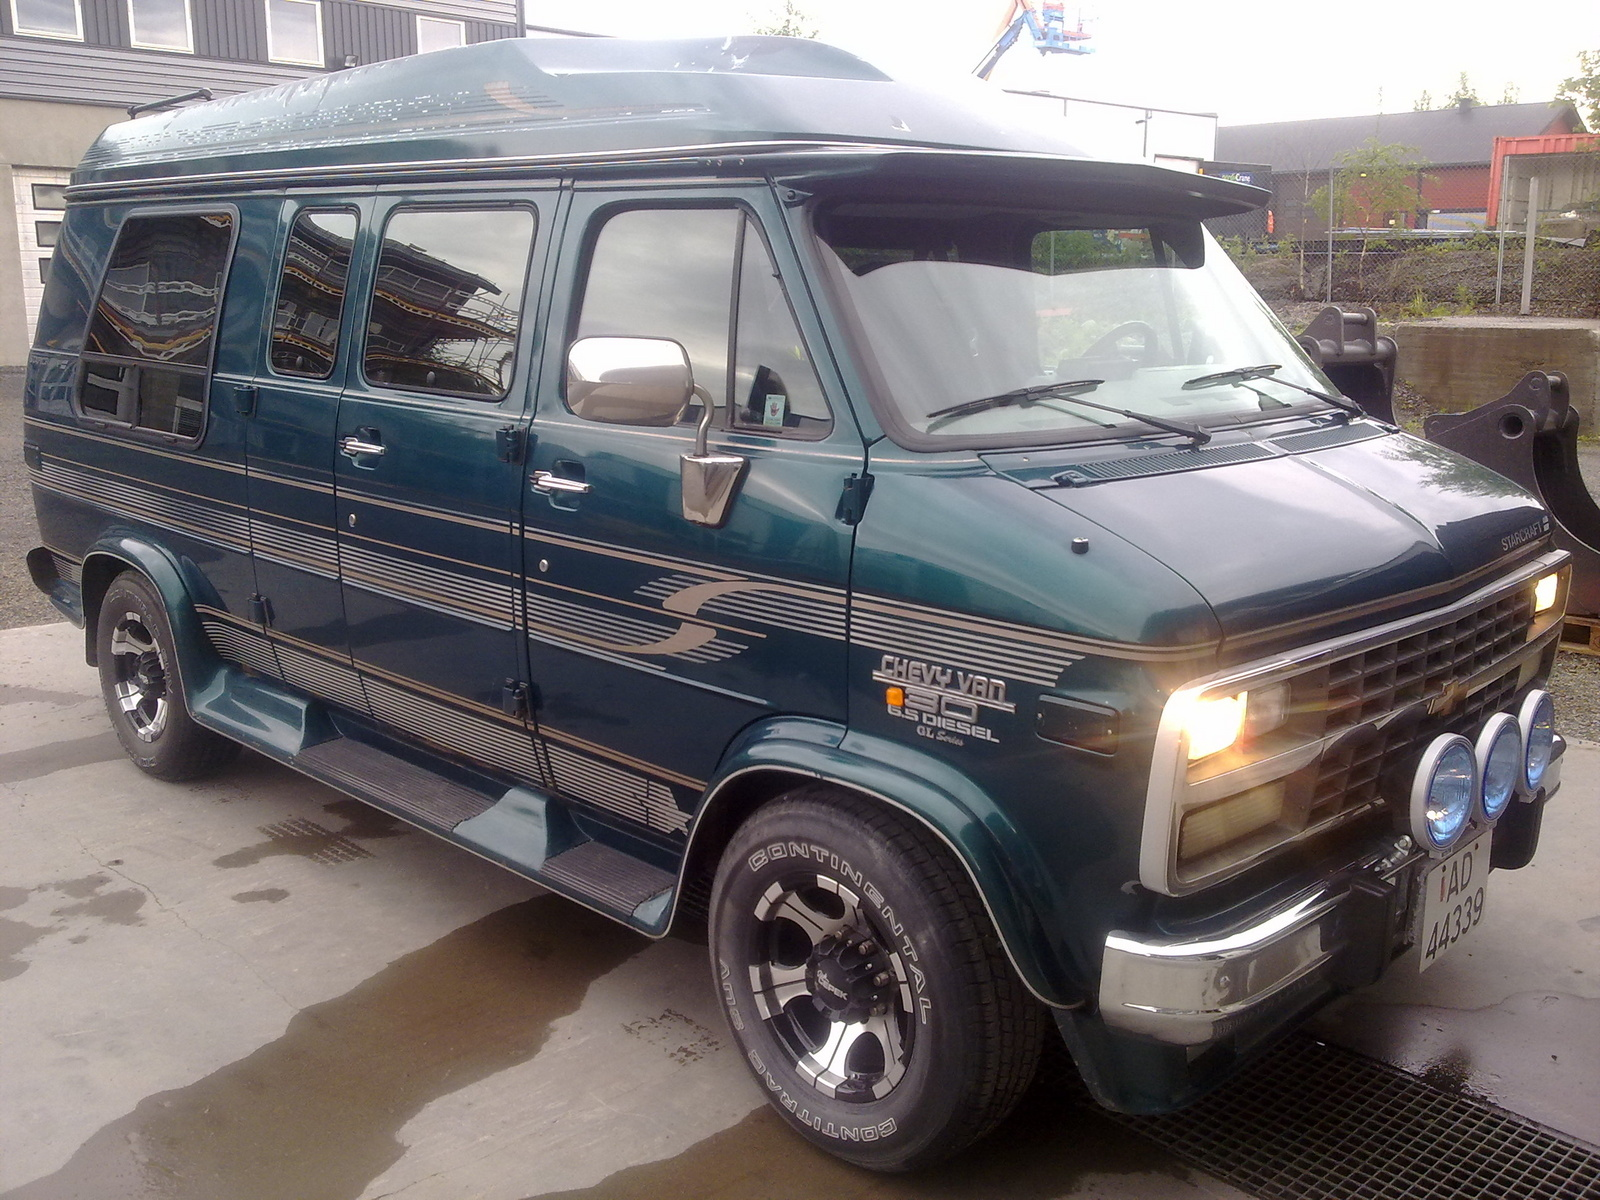van: (13, 29, 1575, 1174)
